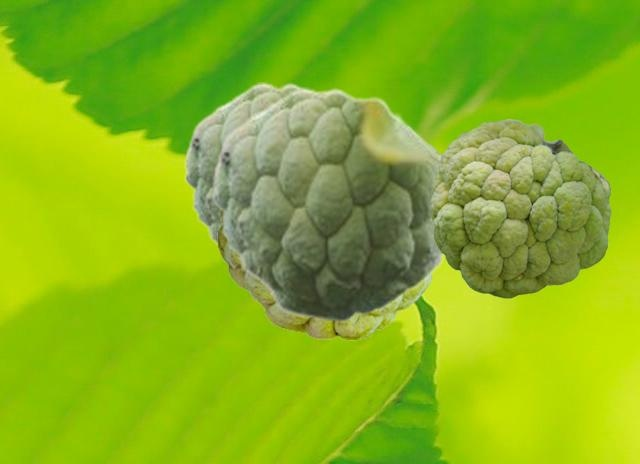atis: (211, 87, 446, 321), (217, 141, 442, 339), (430, 119, 610, 297), (183, 82, 329, 248)
